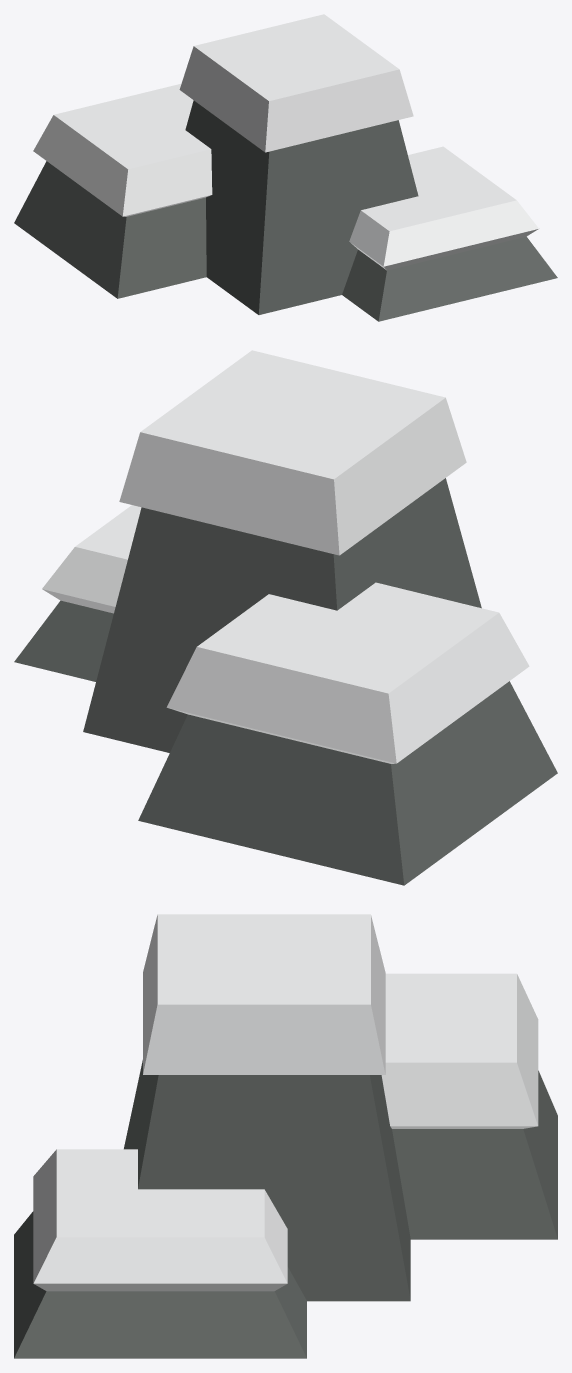
The model's file is Mesh_Stone_Triple.glb.
The picture shows the model from 3 angles, top to bottom: view 1: azimuth 30°, elevation 25°; view 2: azimuth 150°, elevation 25°; view 3: azimuth 270°, elevation 25°; orthographic projection. The views are drawn at different scales.
Visible parts, largest first — view 1: Mesh_Stone_Triple; view 2: Mesh_Stone_Triple; view 3: Mesh_Stone_Triple.
Boxes of the visible parts, x1,y1,x2,y2 form: Mesh_Stone_Triple: (14, 14, 557, 321); Mesh_Stone_Triple: (14, 350, 557, 885); Mesh_Stone_Triple: (14, 914, 557, 1358).
Bounding box in the file's own units: 0.2674 × 0.1436 × 0.2531.
Materials: 1 (1 with a texture image).
